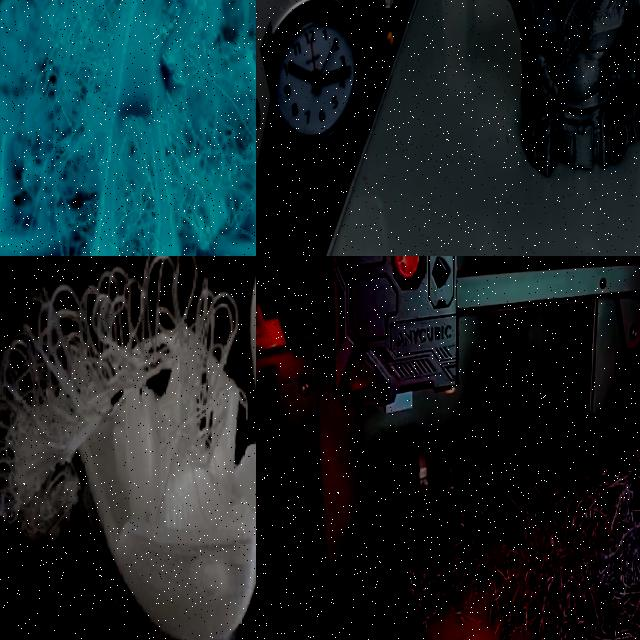spaghetti: (380, 380, 640, 640), (0, 256, 189, 538)
